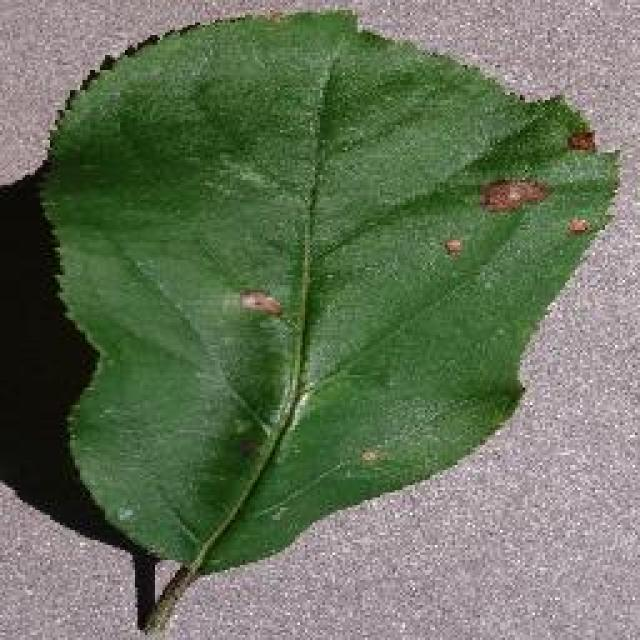Black_rot: (35, 5, 623, 627)
